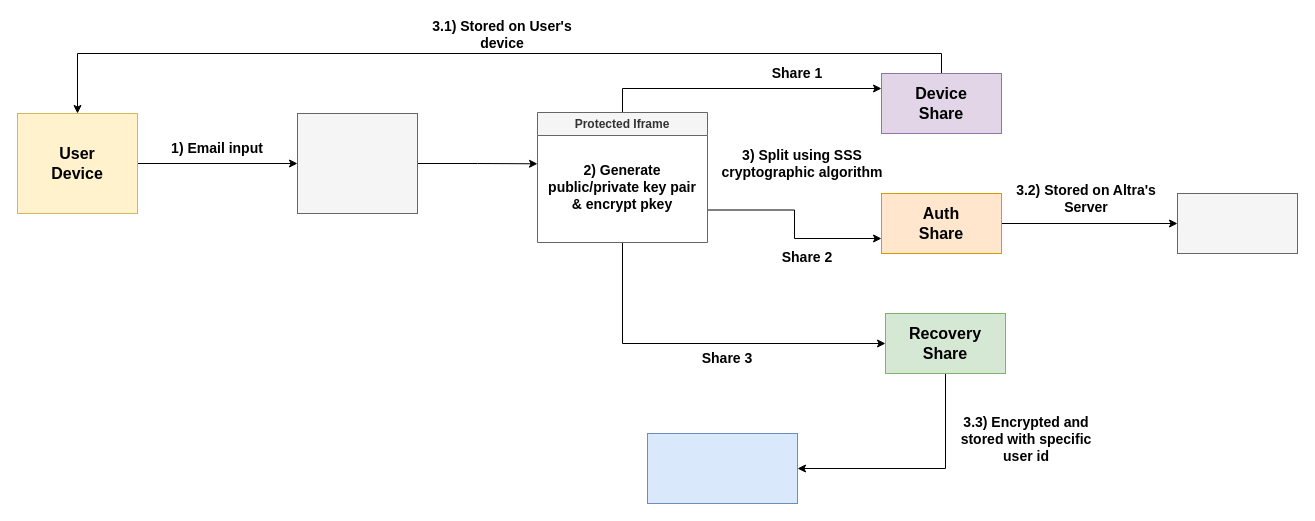
Some shapes in this 1315 by 521 pixel diagram are drawn without their labels. Here are the shapes that lost their labels. From the top down, the centre of each, then its label:
the point at 357,163: Altra Frontend
the point at 1237,223: Altra DB
the point at 722,468: Nillion Storage
